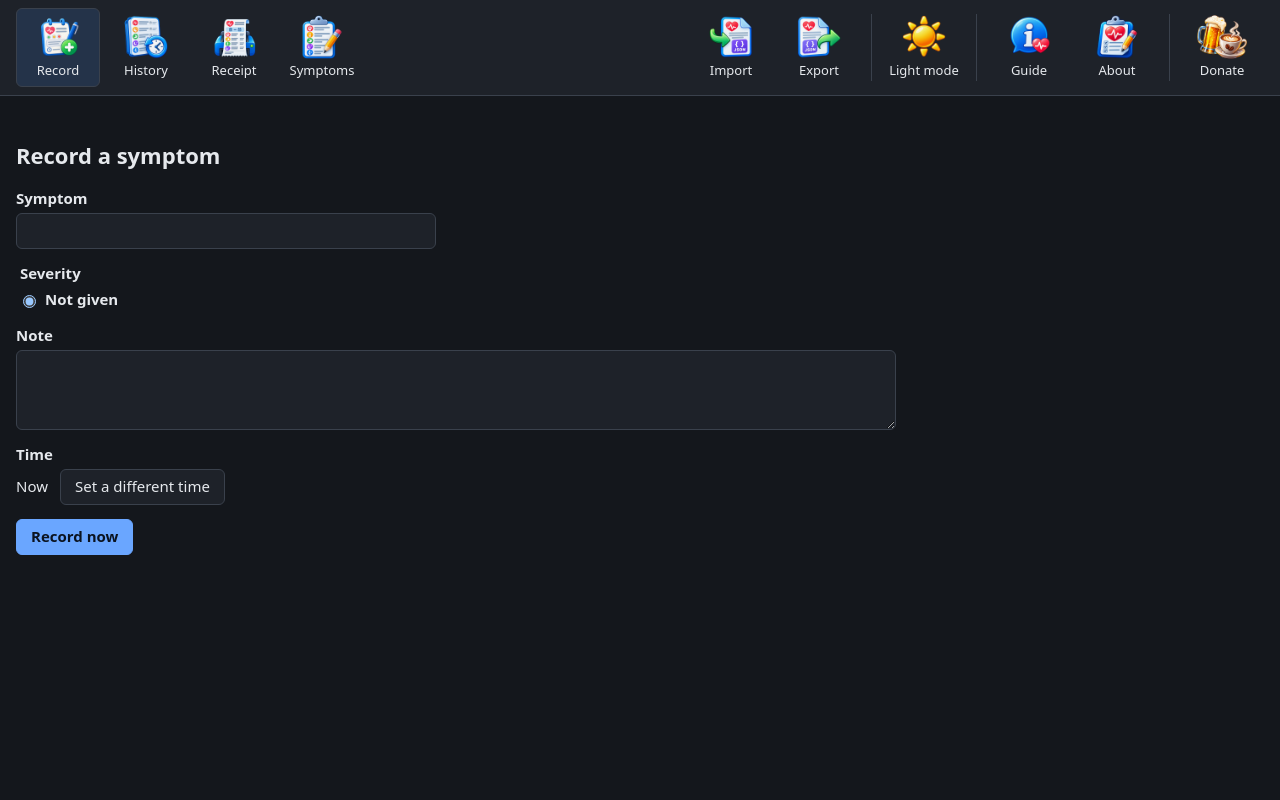
Scenario: the shell › says where the record went and what an import did
Expected: the heading "Record a symptom" is shown, [16,140,220,170]
Click the button "Export".
click(819, 47)  # box [777,8,861,87]
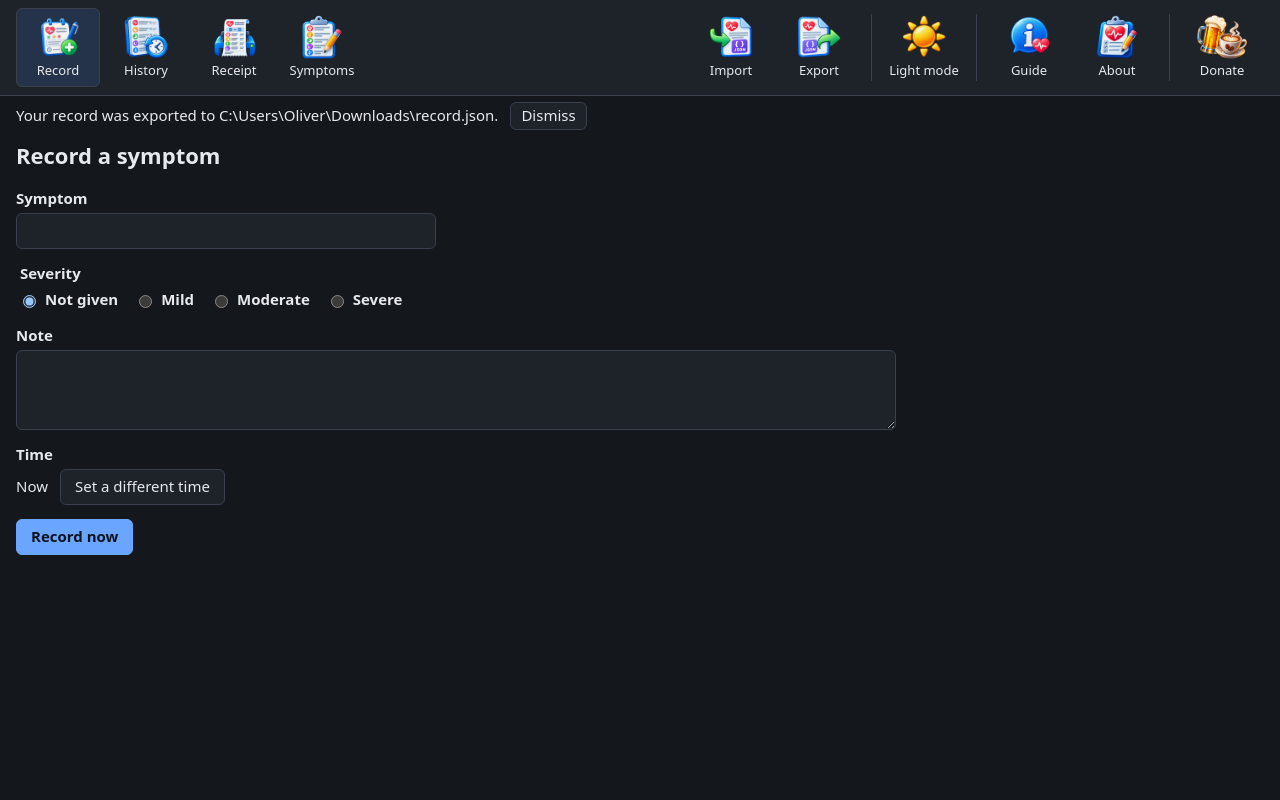
Expected: the text "Your record was exported to" is shown, [16,105,498,125]
Click the button "Import".
click(731, 47)  # box [689,8,773,87]
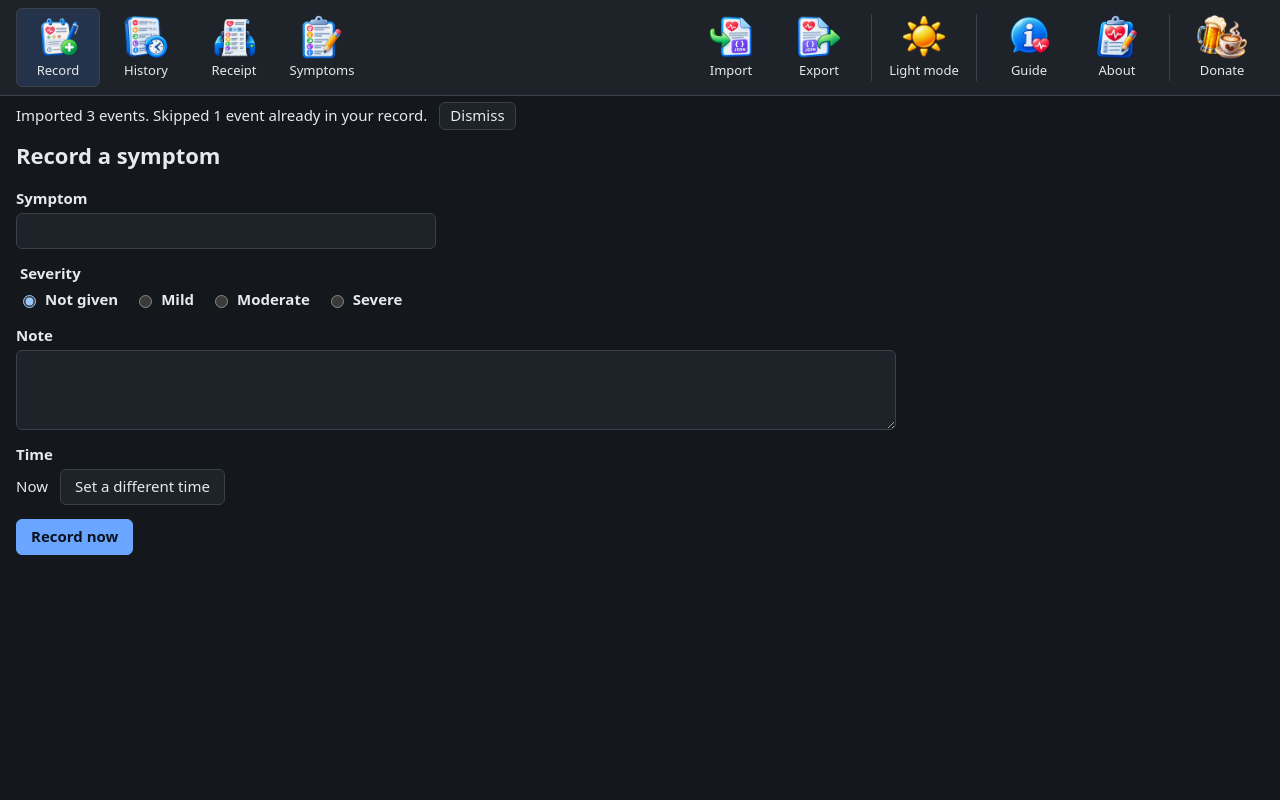
Expected: the text "Imported 3 events. Skipped 1 event already in your record." is shown, [16,105,427,127]
